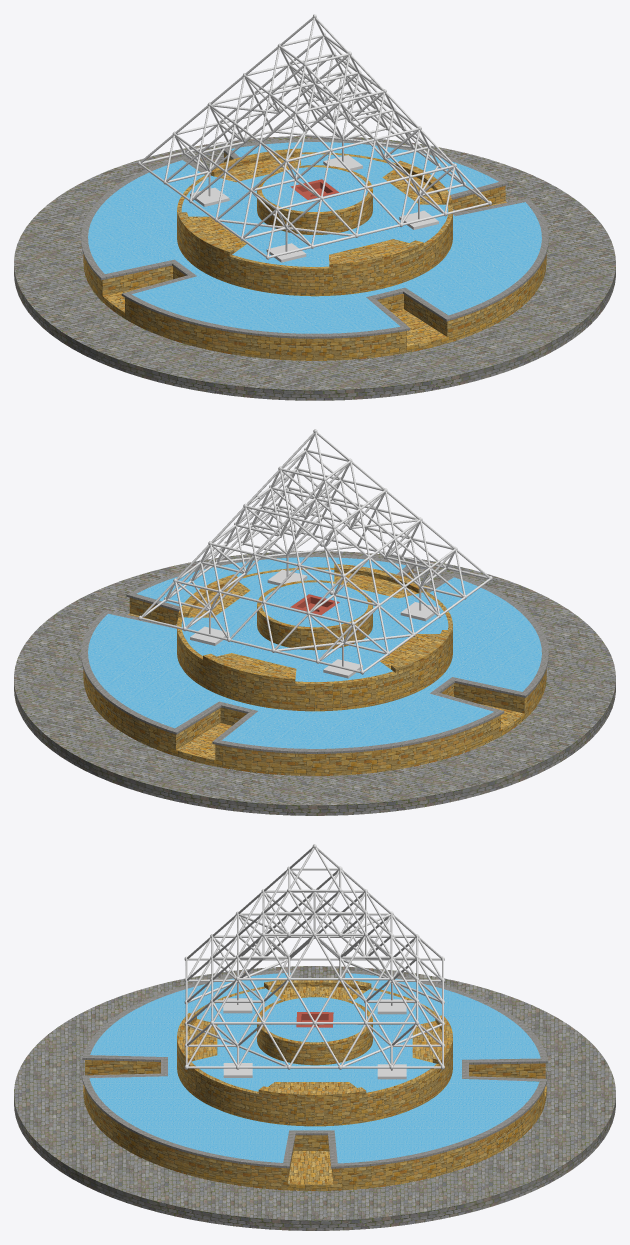
The model's file is 5a10b713-56d8-4953-8787-1c3ccafa7443_thapHUCE.glb.
3 renders of one model, top to bottom at view 1: azimuth 30°, elevation 25°; view 2: azimuth 150°, elevation 25°; view 3: azimuth 270°, elevation 25°, orthographic.
Parts seen in each view (by area): view 1: C-Component#1; view 2: C-Component#1; view 3: C-Component#1.
Part boxes in pixels (x1=…): C-Component#1: x1=14, y1=14, x2=615, y2=400; C-Component#1: x1=14, y1=429, x2=615, y2=815; C-Component#1: x1=14, y1=844, x2=615, y2=1230.
Size of the model in its own units: 25.99 by 12.36 by 25.99.
Materials: 6 (4 with a texture image).
